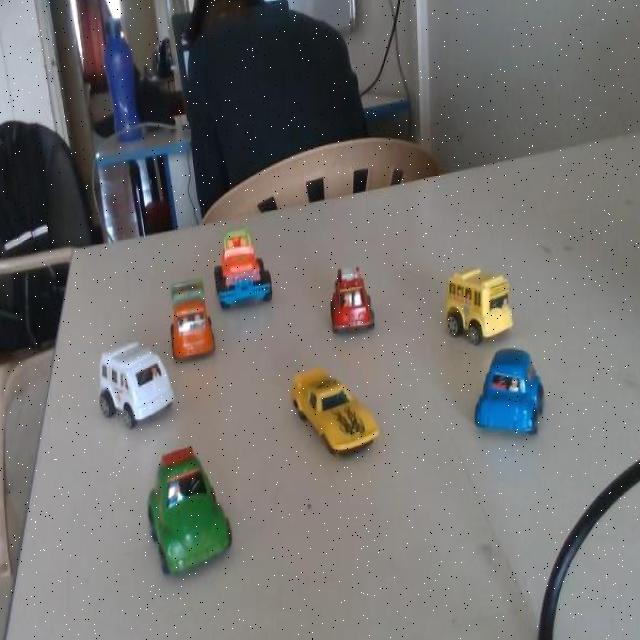car: (81, 414, 268, 638), (70, 309, 193, 461), (266, 358, 392, 473), (468, 342, 550, 449), (210, 215, 287, 312), (157, 263, 221, 375), (432, 267, 510, 355), (314, 257, 380, 351)
